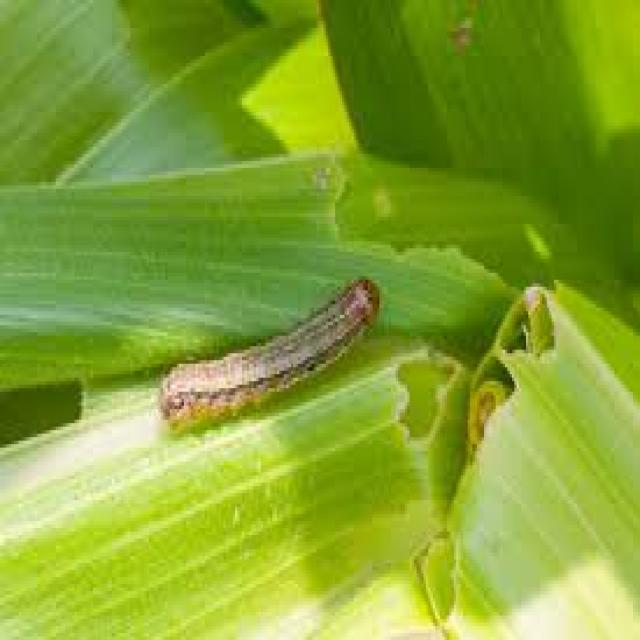Fall-Armyworm: (150, 271, 393, 437)
